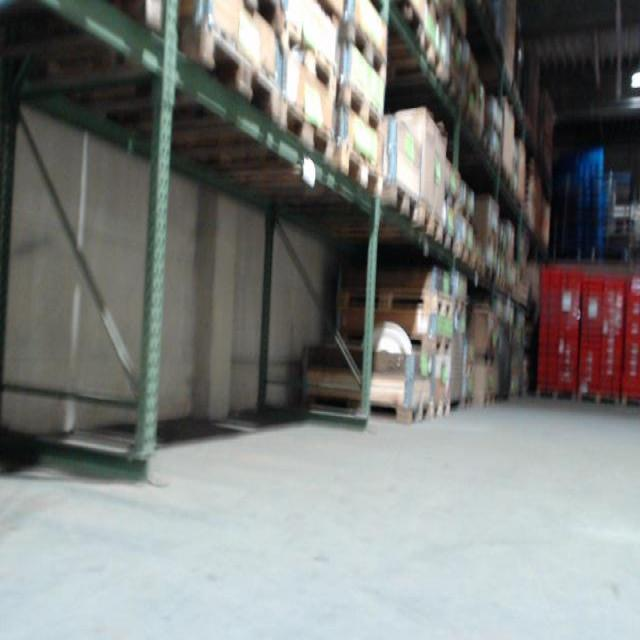pallet: (179, 19, 280, 124), (273, 93, 336, 163), (340, 286, 453, 319), (282, 21, 334, 92), (345, 16, 388, 79), (338, 79, 385, 136), (333, 146, 383, 198), (381, 180, 422, 225), (419, 30, 444, 79), (419, 207, 444, 245), (420, 330, 455, 353), (398, 403, 433, 424), (578, 393, 620, 407), (535, 388, 578, 401), (458, 243, 475, 269), (440, 229, 456, 254), (445, 184, 459, 212), (432, 402, 449, 421), (491, 119, 503, 143), (620, 395, 640, 408), (477, 392, 494, 405), (482, 353, 496, 366), (461, 394, 473, 409)
